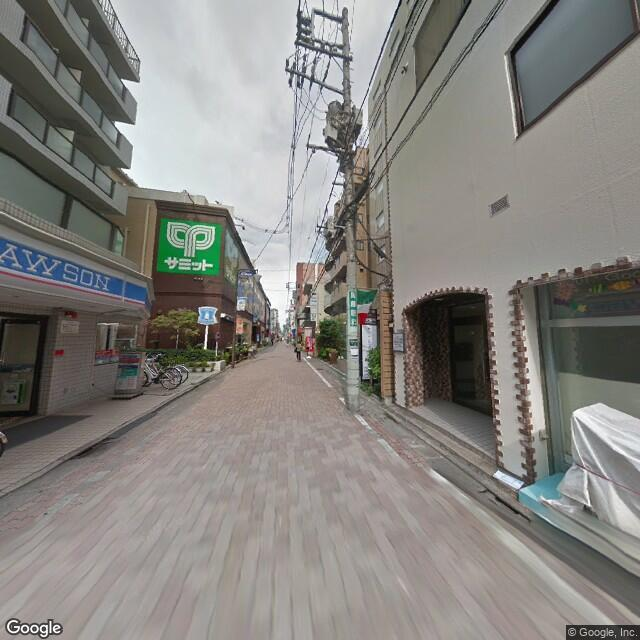lawson: (1, 222, 150, 312)
